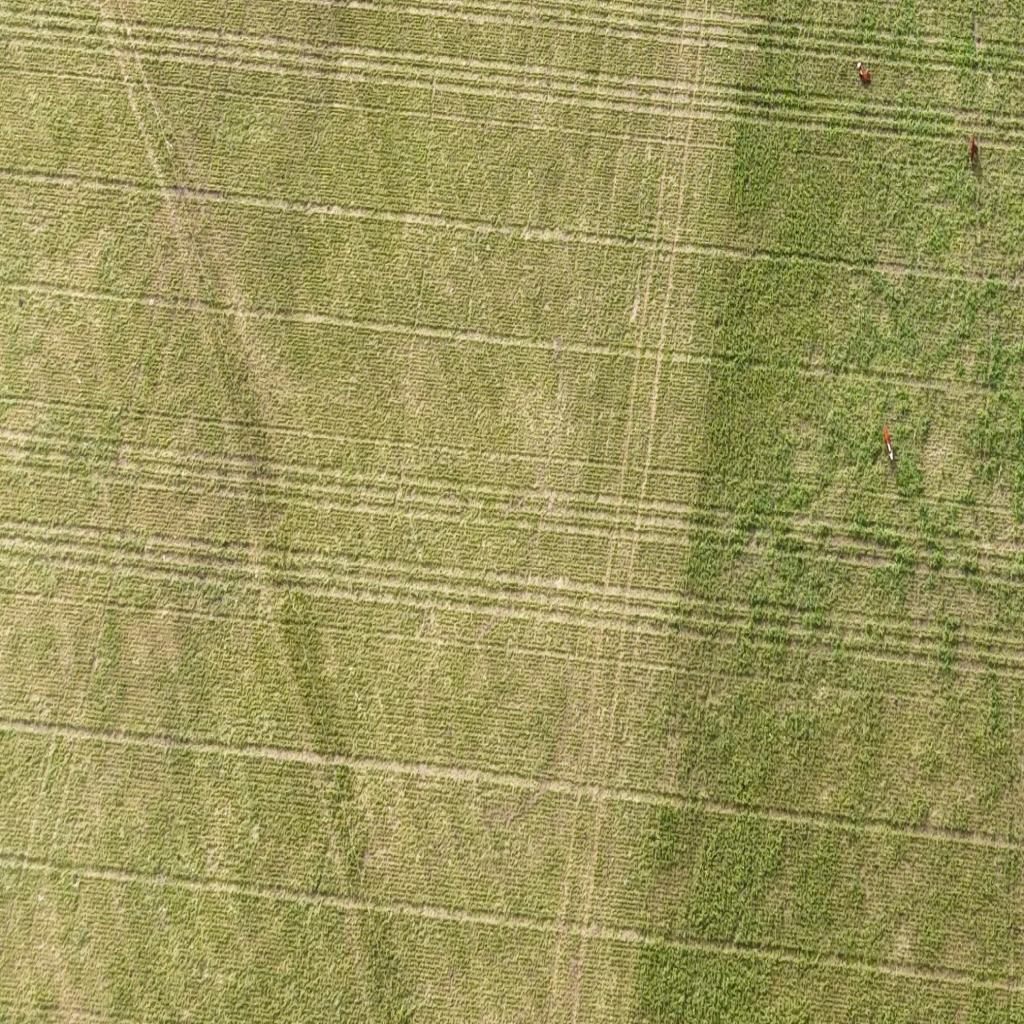cow: (883, 423, 896, 461), (855, 57, 872, 85), (969, 135, 979, 165)
